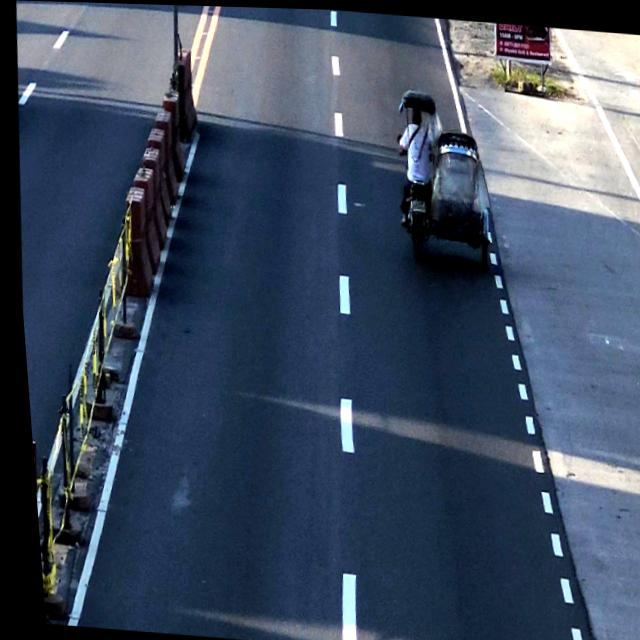Car: (388, 85, 503, 259)
License-Plate: (406, 197, 426, 210)
